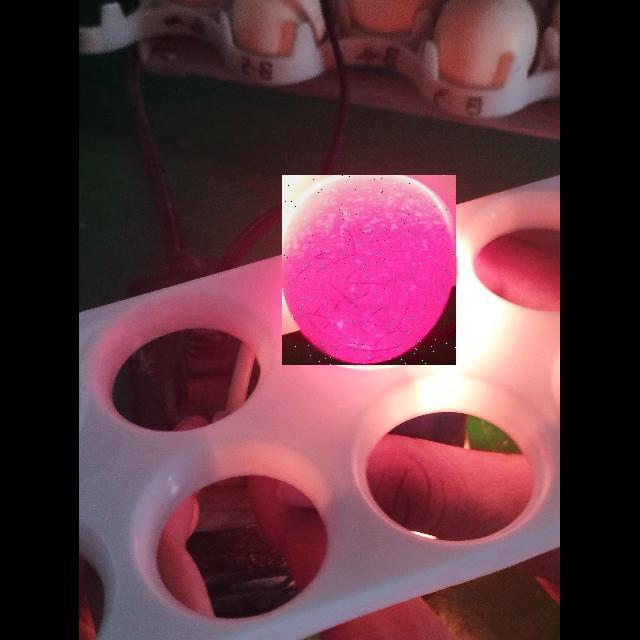Infertile: (282, 175, 456, 365)
